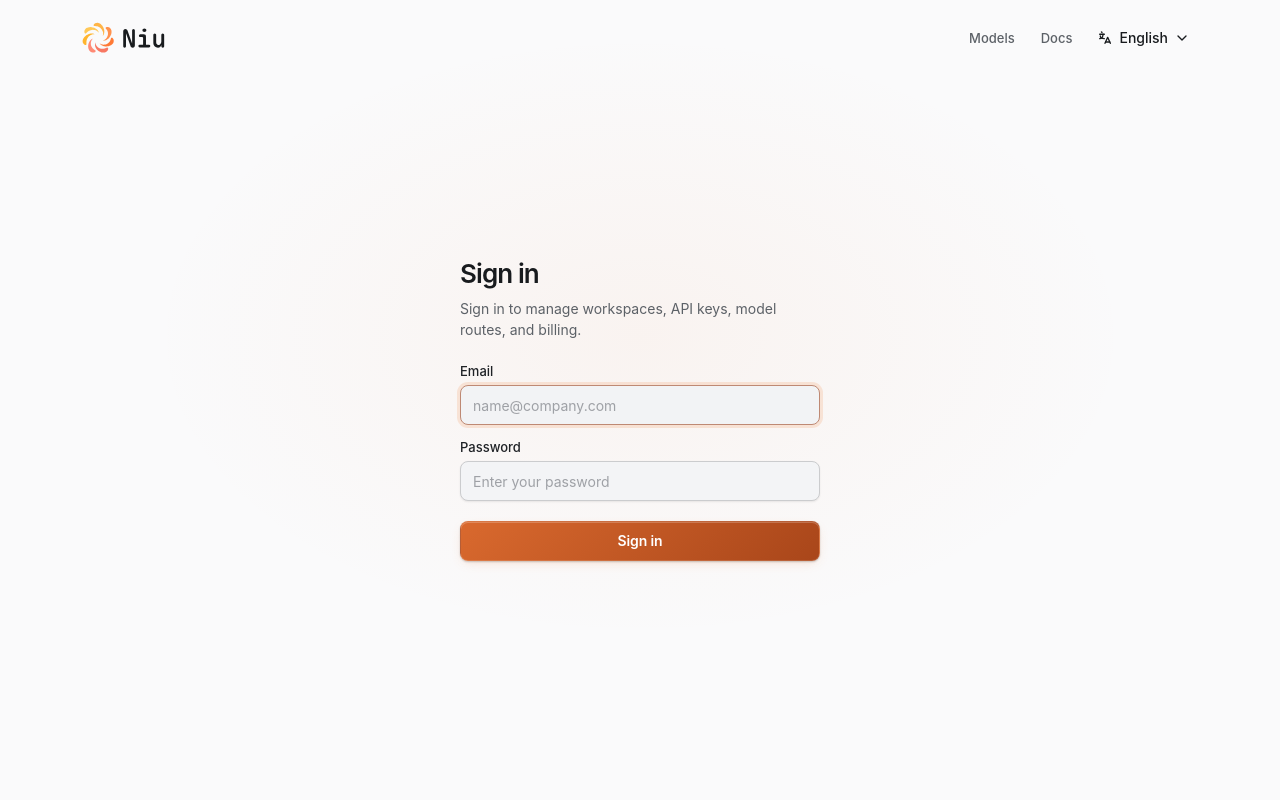
Test: shows the seeded default project as a workspace without changing its existing URL
In the field labelled "Email": point(640, 405) [460,385,820,425], type "demo@example.test"
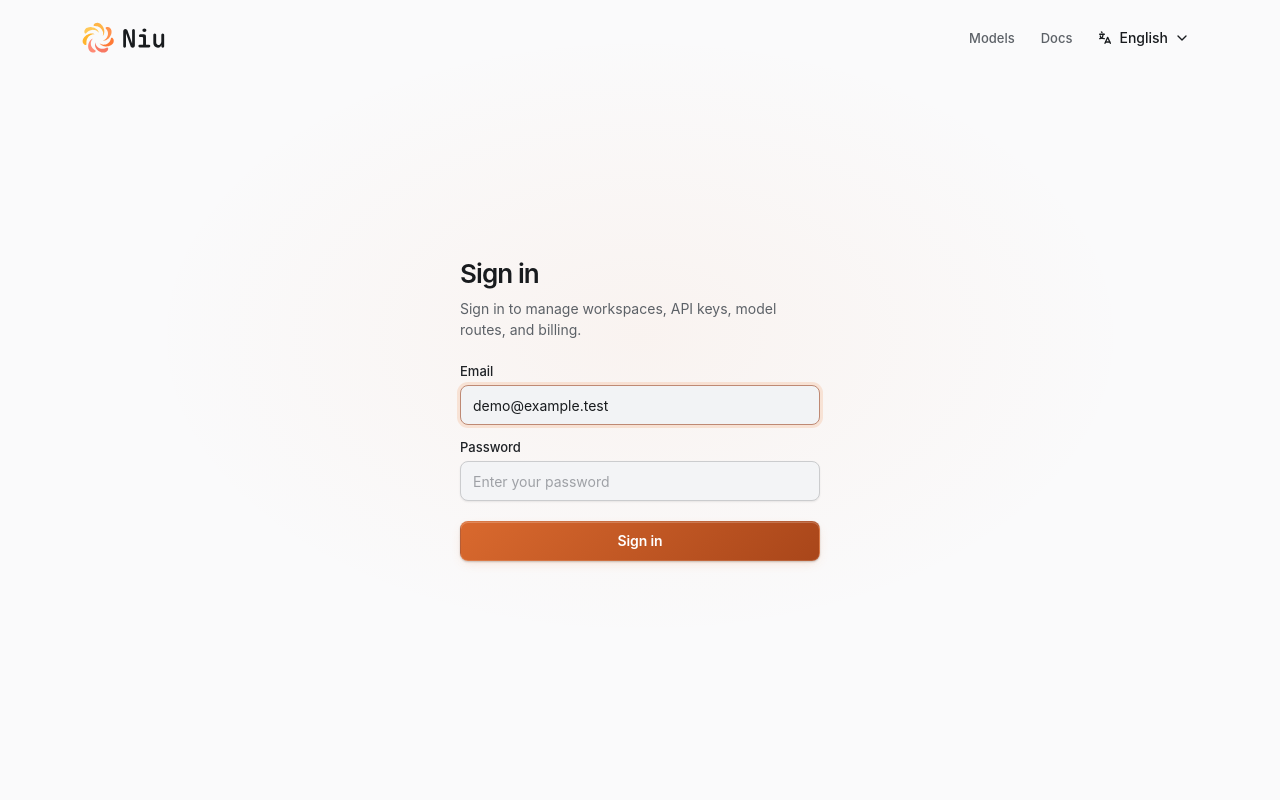
In the password field labelled "Password": point(640, 481) [460,461,820,501], type "fixture-password"
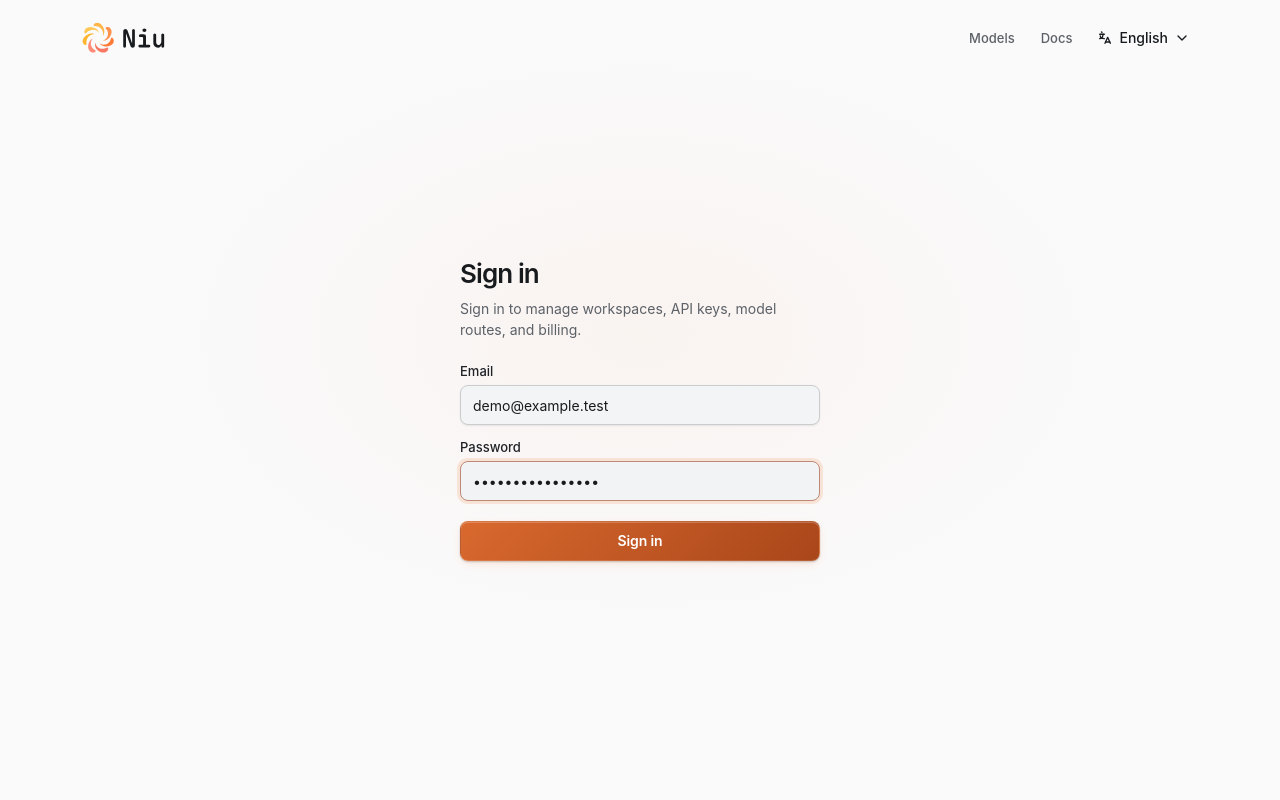
Click the button "Sign in": point(640, 541) [460,521,820,561]
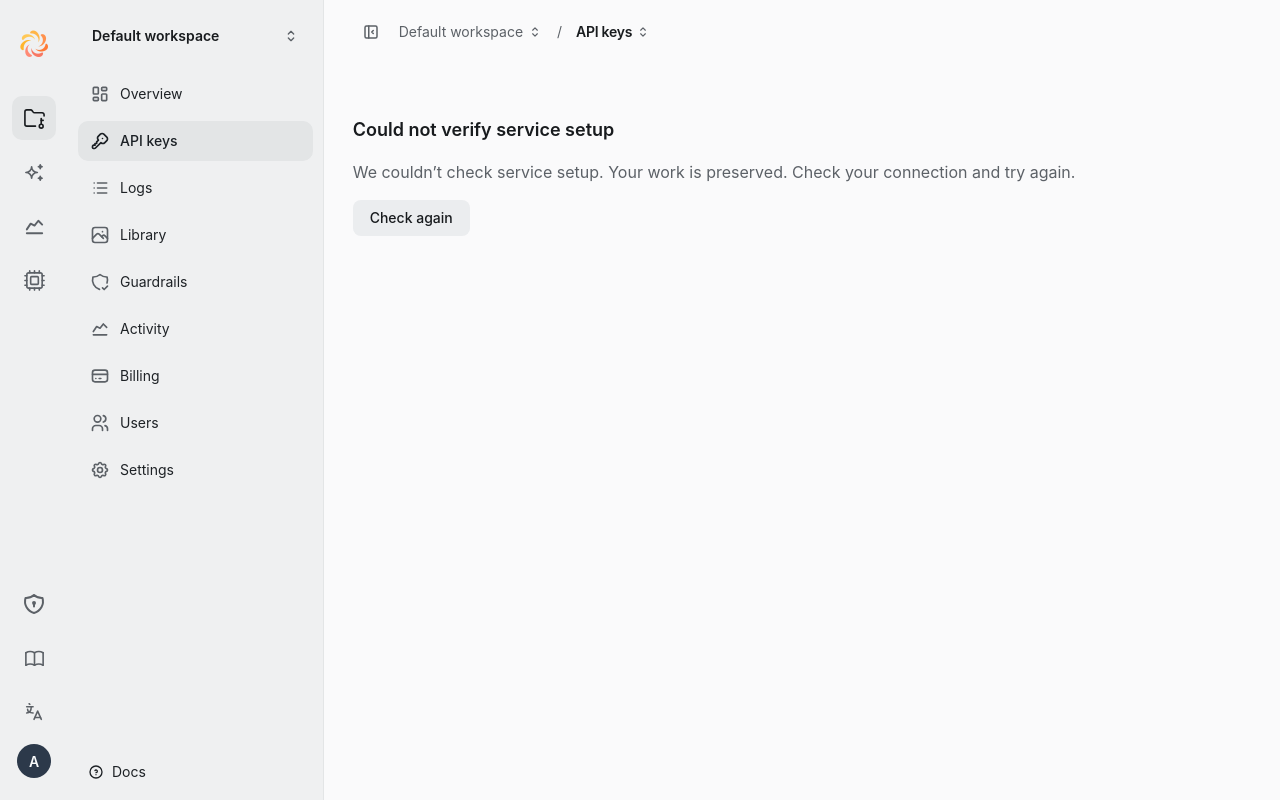
Check: the heading "API keys" is shown, box [576,22,632,42]
Check: the button with aria-label "Switch workspace" reads "Default workspace"
Click the button with aria-label "Switch workspace": point(196, 36) [80,12,311,60]
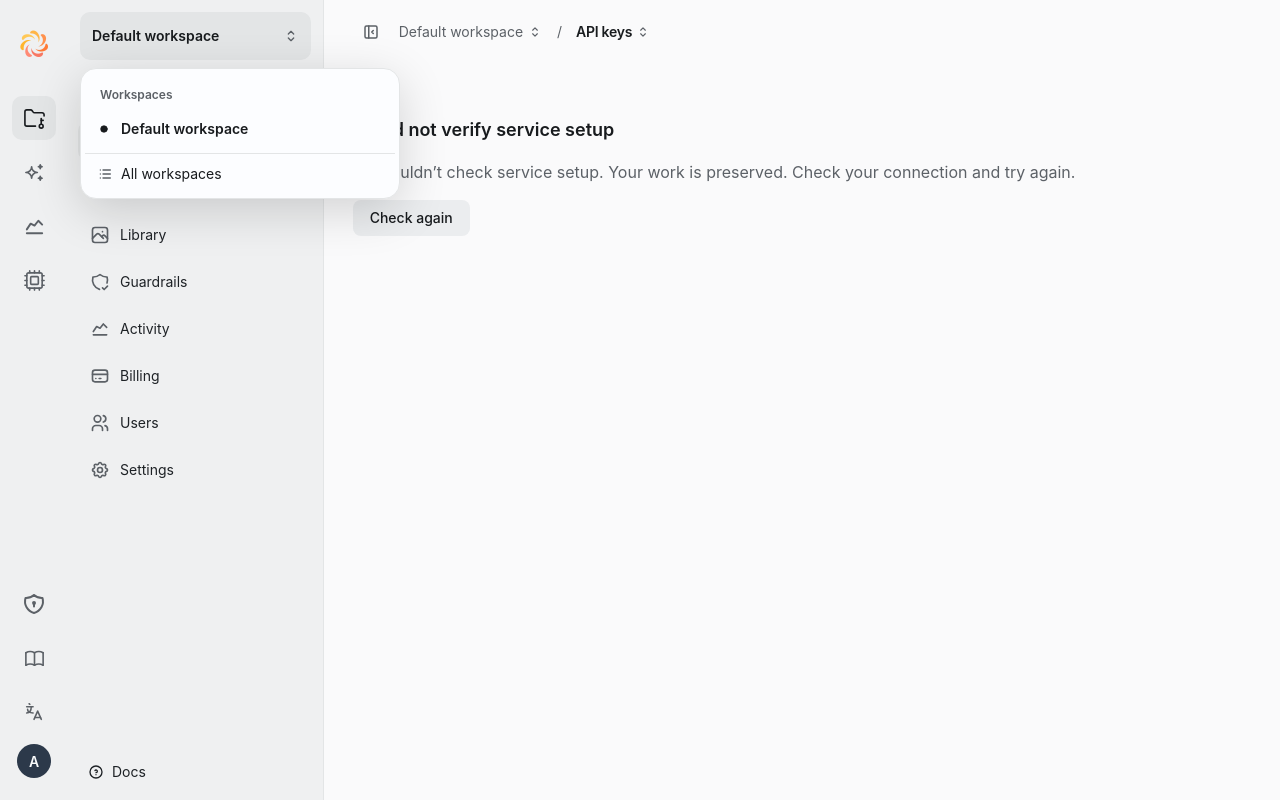
Check: the menu item "Default workspace" is shown, box [100,120,248,137]
